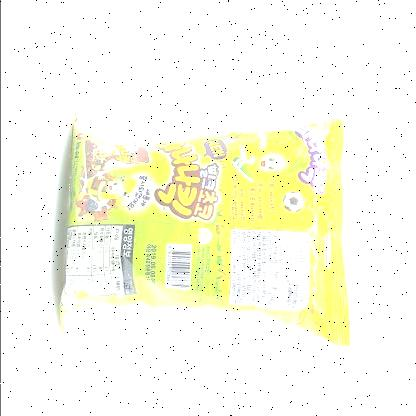Others: (38, 110, 356, 362)
